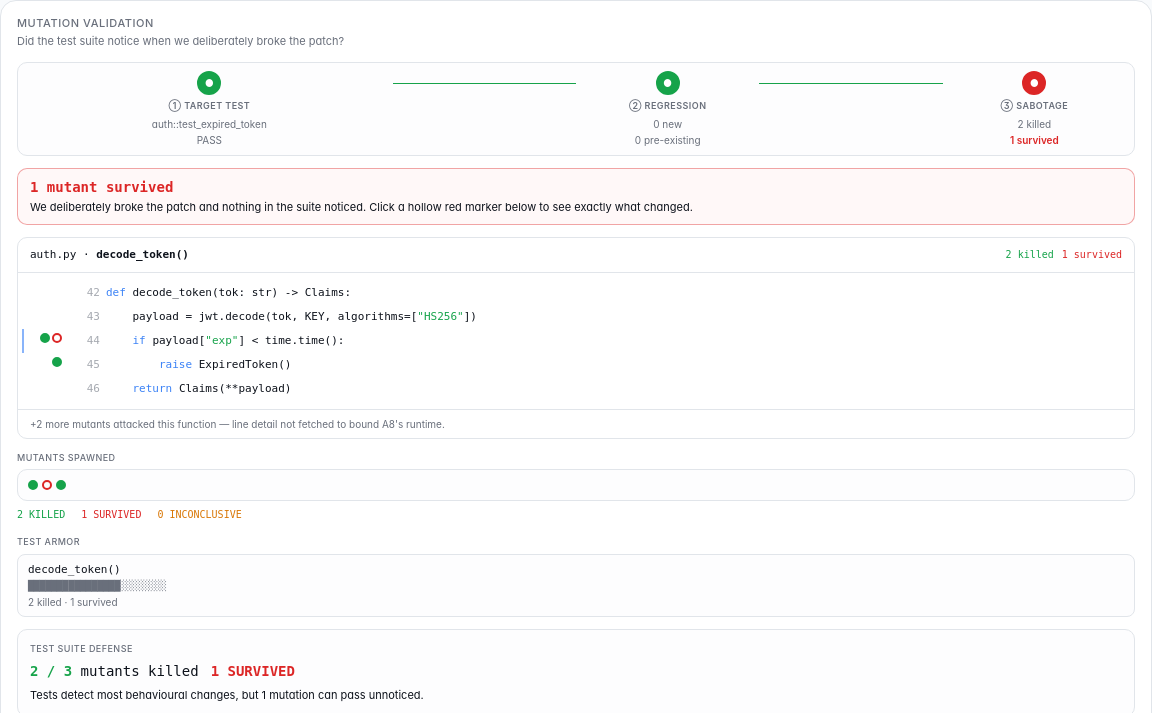
Test case: MutationValidationPanel › shows survivor evidence above the code and expands the real diff on click, never before
Expected: the text "1 mutant survived" is shown, [30,179,173,195]
Expected: the text "< → <=" is not shown
Click the button titled "no test detected this mutation" next to "44": [57, 338] box [52,333,62,343]
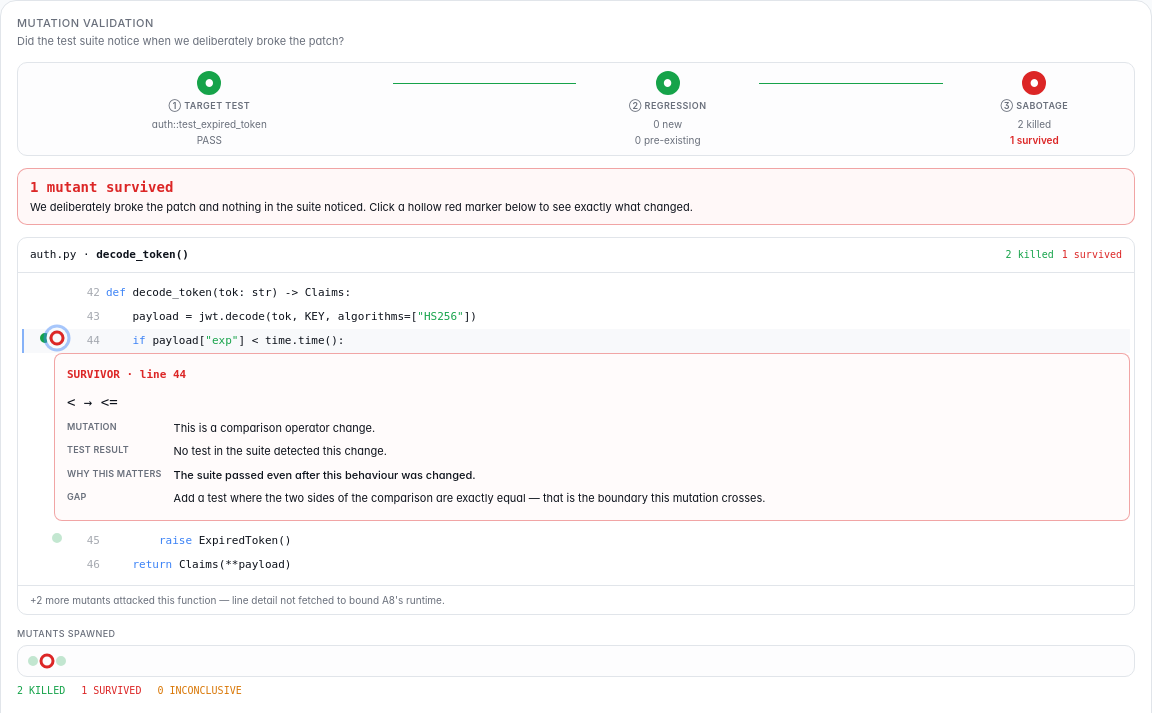
Expected: the text "< → <=" is shown, [67,394,118,410]
Expected: the text "The suite passed even after this behaviour was changed." is shown, [174,468,476,482]
Expected: the text "No test in the suite detected this change." is shown, [174,444,387,458]
